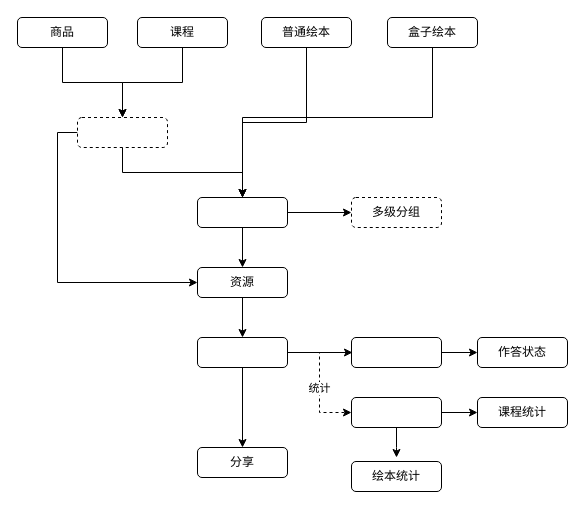
This 585x509 diagram has some shape labels left out. Each missing label, with the box of its shape:
作答: (196, 336, 288, 368)
分组: (196, 196, 288, 228)
答题记录: (350, 336, 442, 368)
课节: (76, 116, 168, 148)
课节统计: (350, 396, 442, 428)
